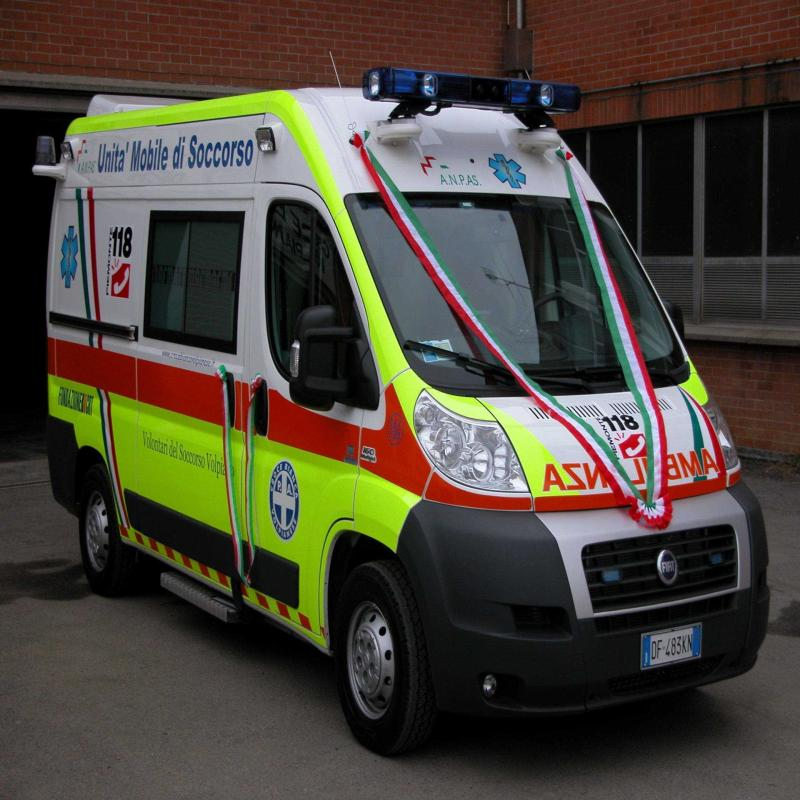AmbulanceSiren: (354, 38, 594, 142)
